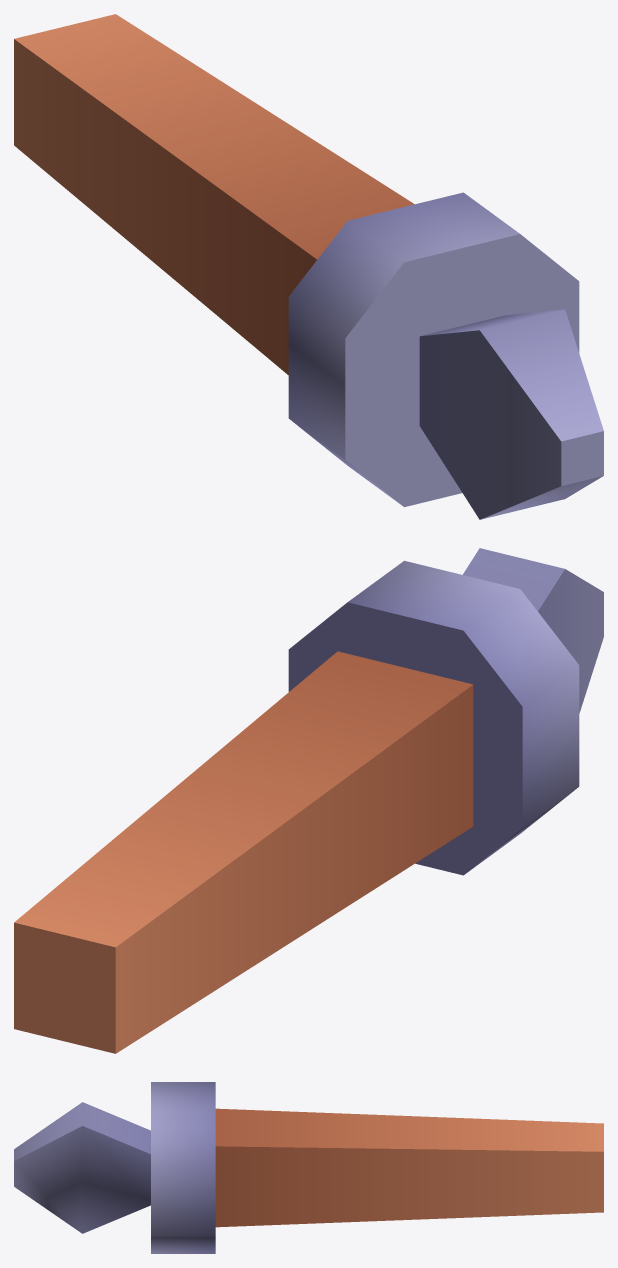
File: projectile_arrow.glb
3 views of the same model, one above another, from view 1: azimuth 30°, elevation 25°; view 2: azimuth 150°, elevation 25°; view 3: azimuth 270°, elevation 25° (orthographic). The views are drawn at different scales.
Visible parts, largest first — view 1: weapon-arrow; view 2: weapon-arrow; view 3: weapon-arrow.
Part boxes in pixels (x1,y1,x2,y2): weapon-arrow: [14, 14, 603, 519]; weapon-arrow: [14, 548, 603, 1053]; weapon-arrow: [14, 1082, 603, 1253].
Size of the model in its own units: 0.119 by 0.119 by 0.456.
1 material, 1 textured.
